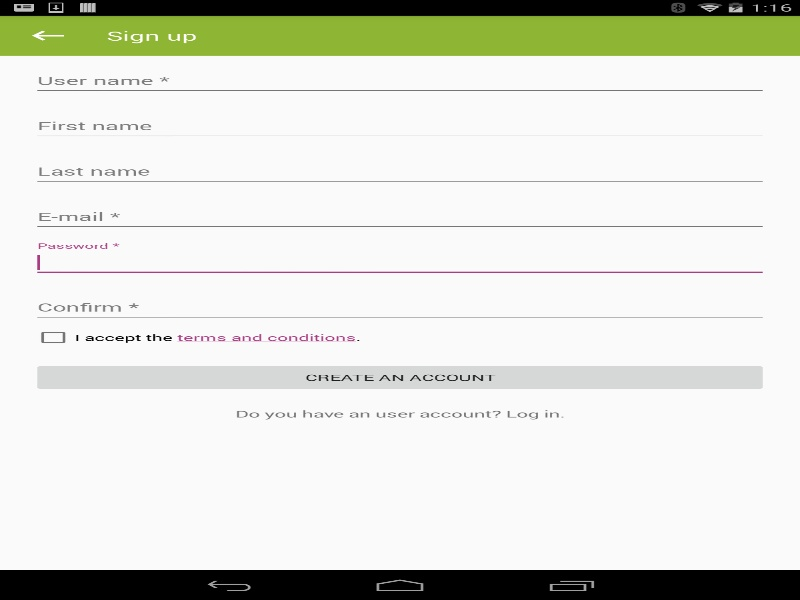Button: (32, 362, 768, 392), (10, 15, 85, 55)
Input: (32, 112, 768, 141), (32, 248, 768, 277), (32, 67, 768, 95), (32, 158, 768, 186), (32, 203, 768, 231), (32, 294, 768, 322)
